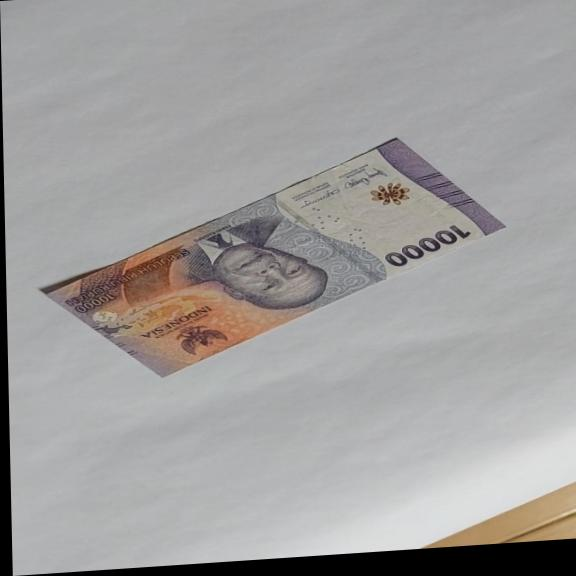Kertas: (35, 129, 510, 386), (382, 222, 473, 268)
